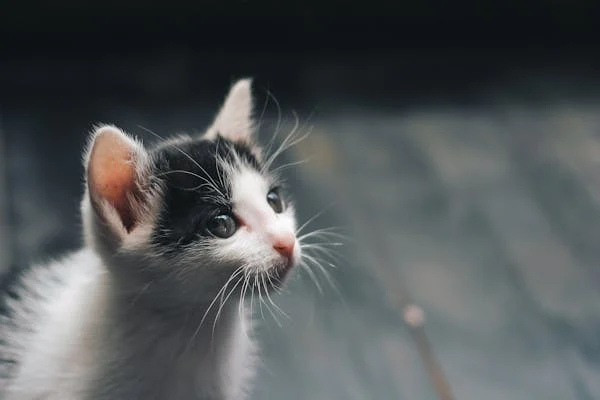Cat: (1, 77, 303, 400)
